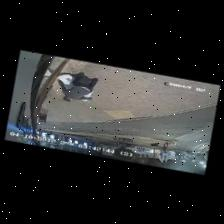person: (58, 73, 98, 101)
